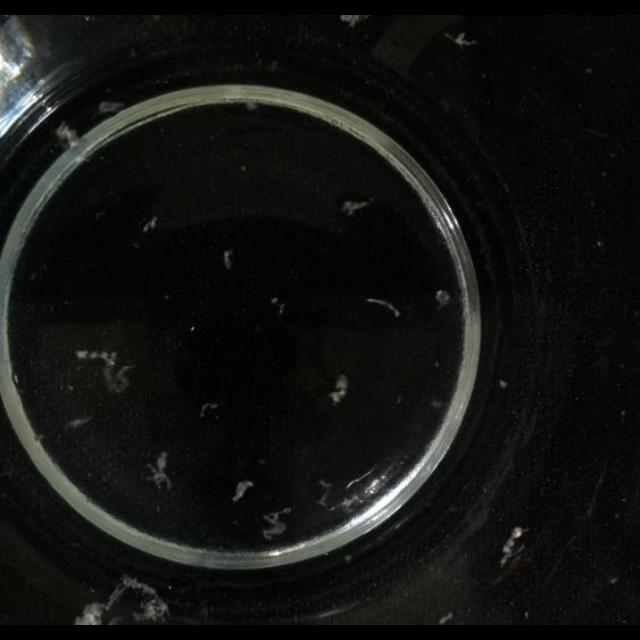Fibre: (70, 575, 168, 625), (76, 346, 134, 394), (314, 476, 358, 516), (360, 291, 402, 325), (500, 526, 528, 568), (145, 453, 173, 493), (262, 510, 292, 540), (72, 602, 106, 626), (56, 122, 82, 150), (326, 374, 349, 404), (95, 94, 119, 116), (340, 200, 370, 217), (232, 482, 255, 504), (66, 416, 94, 432), (340, 15, 370, 28), (199, 402, 219, 418), (270, 296, 286, 314), (142, 216, 158, 234), (222, 249, 234, 269), (244, 100, 260, 112), (438, 614, 454, 624)
microbeads: (449, 30, 477, 48), (434, 289, 452, 307), (498, 378, 508, 388)
